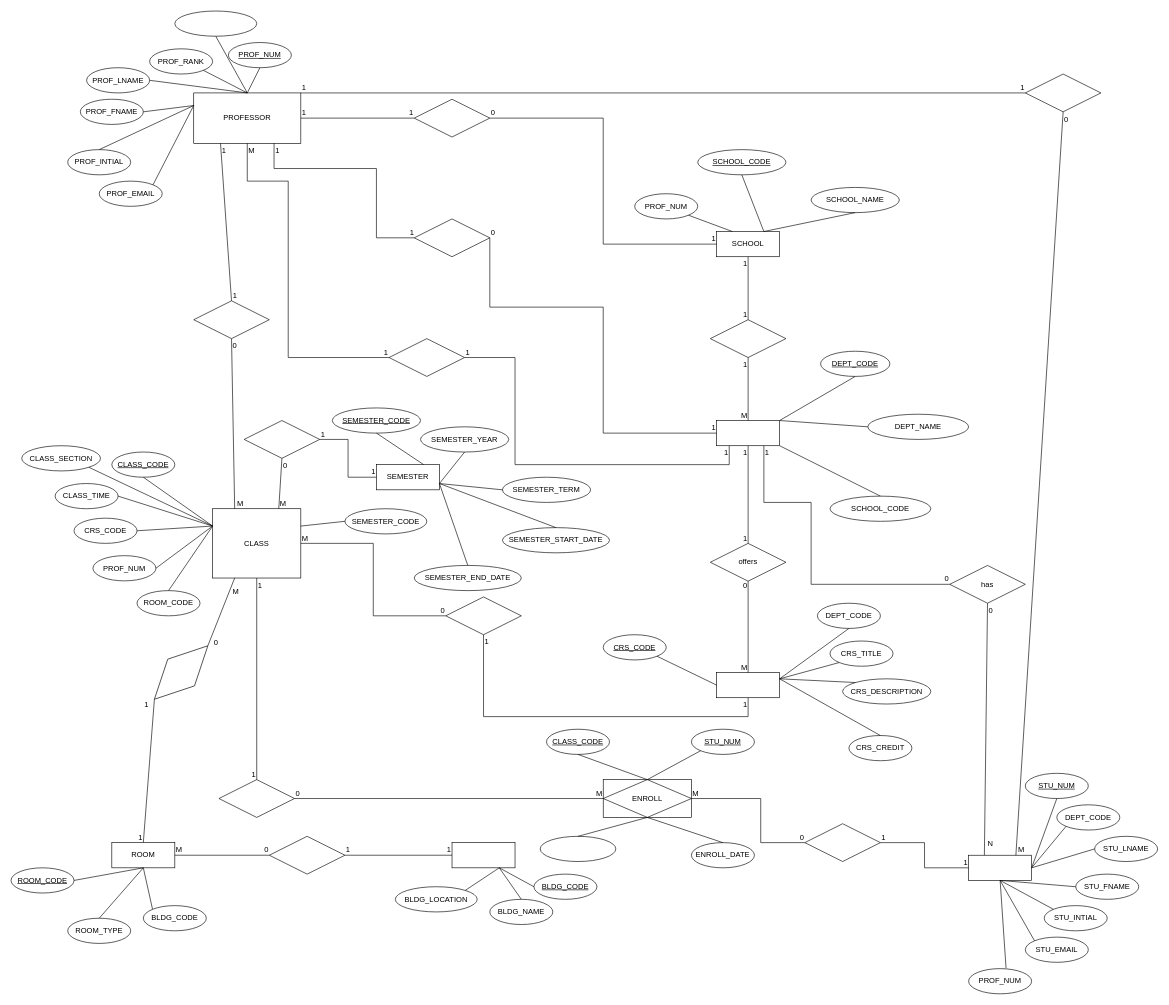
Some shapes in this 1169 by 1005 pixel diagram are drawn without their labels. The shapes that lost their labels are listed below. From the top down, each one's box as (x1, y1, x2, y2) in pixels, then its label:
(174, 10, 257, 36): PROF_SPECIALTY
(1025, 73, 1101, 112): advises
(414, 99, 490, 137): is dean of
(414, 218, 490, 257): chairs
(193, 300, 269, 339): teaches
(710, 319, 786, 358): operates
(388, 338, 465, 376): employs
(243, 420, 320, 458): includes
(716, 420, 780, 446): DEPARTMENT
(445, 596, 521, 635): genarates
(140, 632, 221, 713): is used for
(716, 672, 780, 698): COURSE
(218, 779, 295, 817): is found in
(269, 836, 345, 874): contains
(451, 842, 515, 868): BUILDING
(540, 836, 616, 862): ENROLL_GRADE
(804, 823, 880, 862): is written in
(968, 855, 1032, 880): STUDENT
